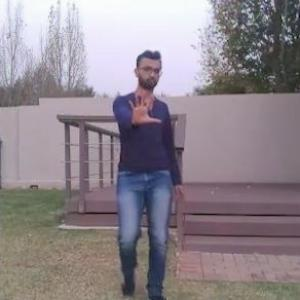follow_hand: (125, 85, 164, 128)
